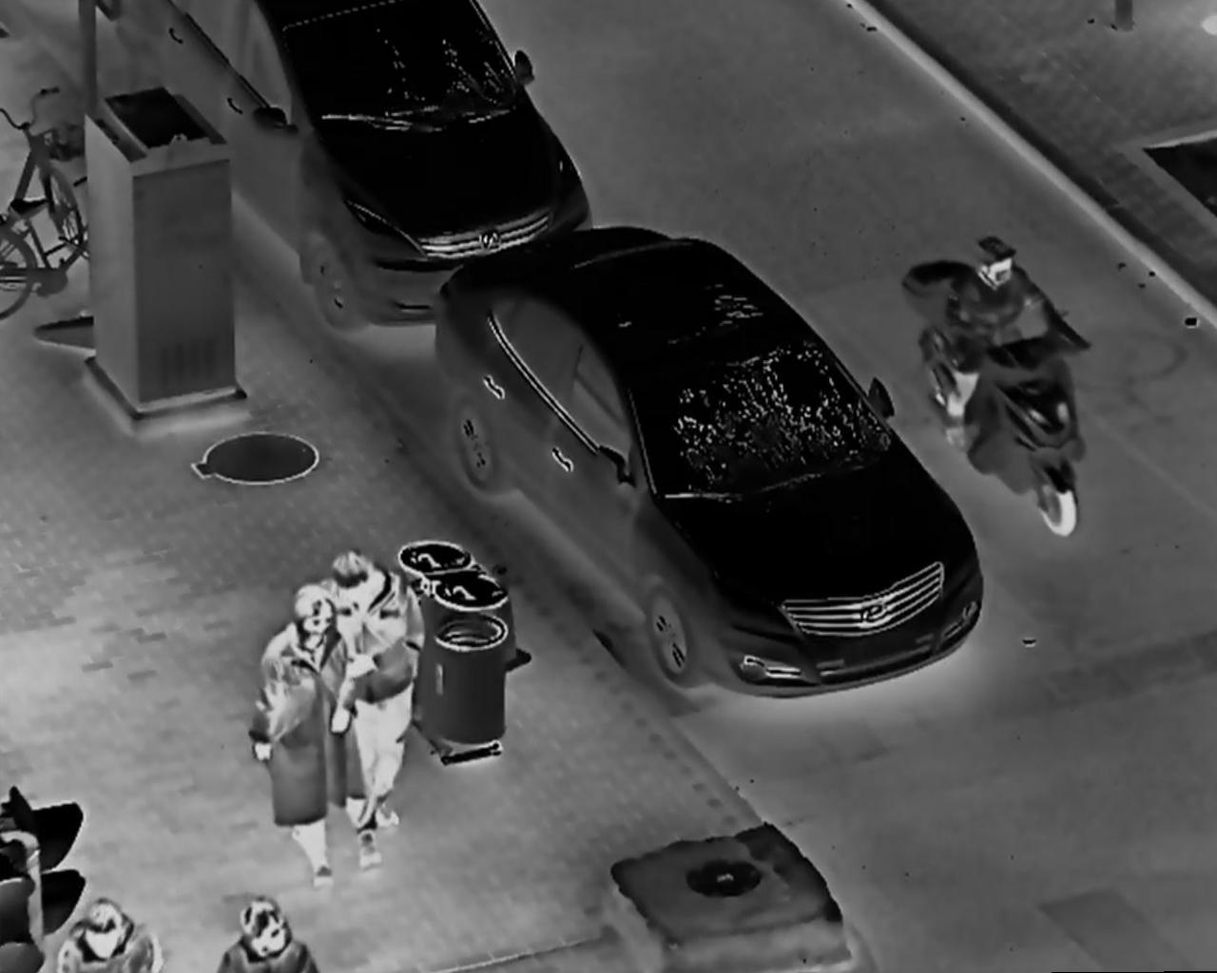person: (250, 584, 364, 887), (316, 551, 429, 834), (941, 230, 1060, 454), (51, 896, 175, 973), (216, 893, 320, 973)
